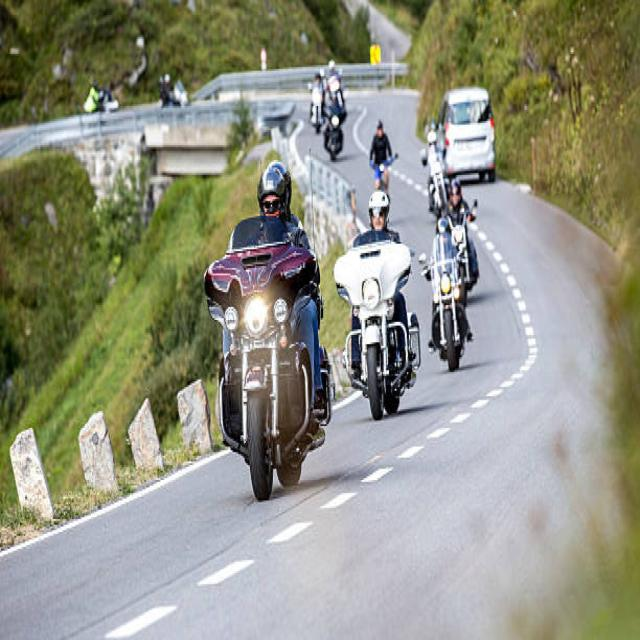MOTORCYCLE: (216, 220, 322, 491), (334, 240, 415, 414), (422, 238, 472, 366), (326, 107, 345, 167)
TRUCK: (430, 86, 498, 190)
